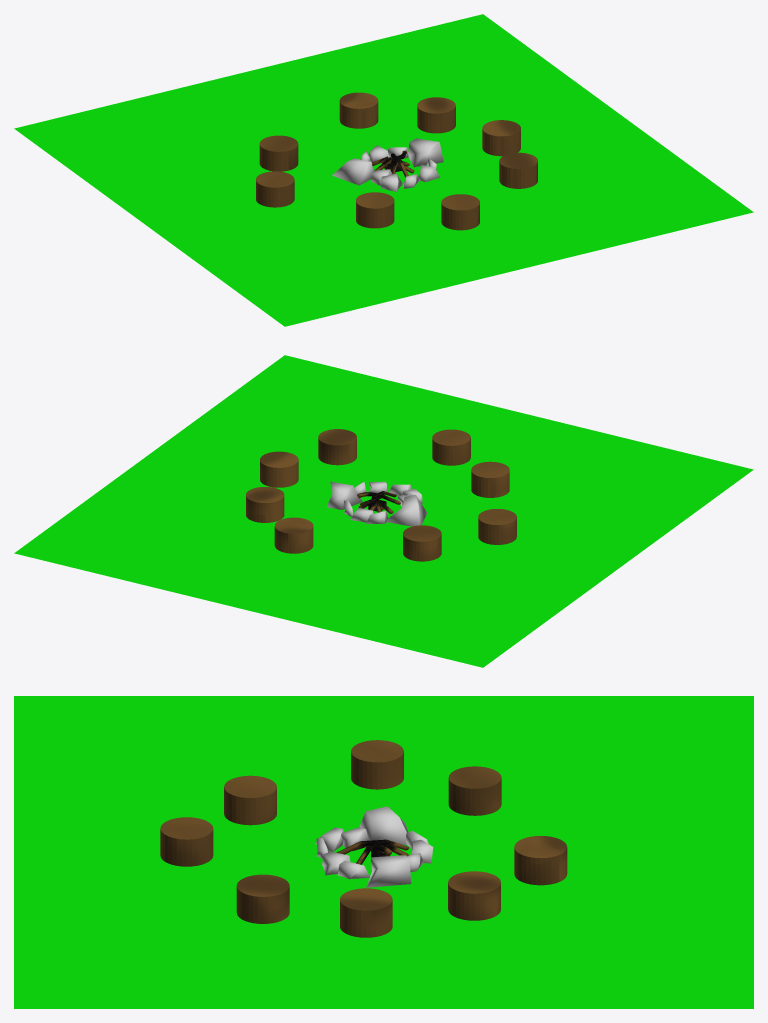
The model's file is State_Campfire_1.fbx.
The picture shows the model from 3 angles, top to bottom: view 1: azimuth 30°, elevation 25°; view 2: azimuth 150°, elevation 25°; view 3: azimuth 270°, elevation 25°; orthographic projection. The views are drawn at different scales.
Parts seen in each view (by area): view 1: Plane, Rocks, Sittin Logs.002, Sittin Logs.003, Sittin Logs 1, Sittin Logs.006, Sittin Logs.004, Sittin Logs.005, Sittin Logs.007, Sittin Logs.008, Camp FIre; view 2: Plane, Rocks, Sittin Logs.002, Sittin Logs.006, Sittin Logs.008, Sittin Logs.003, Sittin Logs.005, Sittin Logs.007, Sittin Logs.004, Sittin Logs 1, Camp FIre; view 3: Plane, Rocks, Sittin Logs.006, Sittin Logs.003, Sittin Logs.007, Sittin Logs.002, Sittin Logs.005, Sittin Logs 1, Sittin Logs.004, Sittin Logs.008, Camp FIre.
Boxes of the visible parts, x1,y1,x2,y2 form: Plane: [14, 14, 753, 326]; Rocks: [332, 138, 443, 191]; Sittin Logs.002: [339, 92, 378, 128]; Sittin Logs.003: [259, 135, 298, 171]; Sittin Logs 1: [417, 97, 455, 133]; Sittin Logs.006: [441, 194, 479, 230]; Sittin Logs.004: [256, 171, 294, 207]; Sittin Logs.005: [356, 192, 394, 228]; Sittin Logs.007: [499, 152, 537, 188]; Sittin Logs.008: [482, 120, 520, 156]; Camp FIre: [372, 150, 414, 177]; Plane: [14, 355, 753, 667]; Rocks: [327, 481, 426, 526]; Sittin Logs.002: [274, 517, 313, 553]; Sittin Logs.006: [432, 429, 470, 465]; Sittin Logs.008: [260, 451, 298, 487]; Sittin Logs.003: [403, 525, 441, 561]; Sittin Logs.005: [471, 461, 509, 497]; Sittin Logs.007: [318, 429, 356, 465]; Sittin Logs.004: [478, 509, 516, 544]; Sittin Logs 1: [246, 487, 284, 522]; Camp FIre: [357, 491, 400, 513]; Plane: [14, 696, 753, 1008]; Rocks: [315, 806, 433, 887]; Sittin Logs.006: [160, 817, 213, 866]; Sittin Logs.003: [448, 766, 501, 815]; Sittin Logs.007: [236, 874, 289, 923]; Sittin Logs.002: [514, 836, 567, 885]; Sittin Logs.005: [224, 775, 276, 825]; Sittin Logs 1: [448, 871, 500, 920]; Sittin Logs.004: [351, 740, 403, 789]; Sittin Logs.008: [340, 888, 392, 937]; Camp FIre: [336, 839, 408, 864].
Bounding box in the file's own units: 1600 × 84.23 × 1600.
